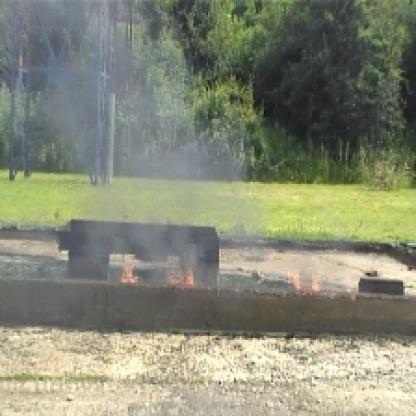Fire: (275, 266, 332, 299), (169, 258, 221, 290), (110, 256, 143, 286)
Smoke: (2, 4, 245, 243)
